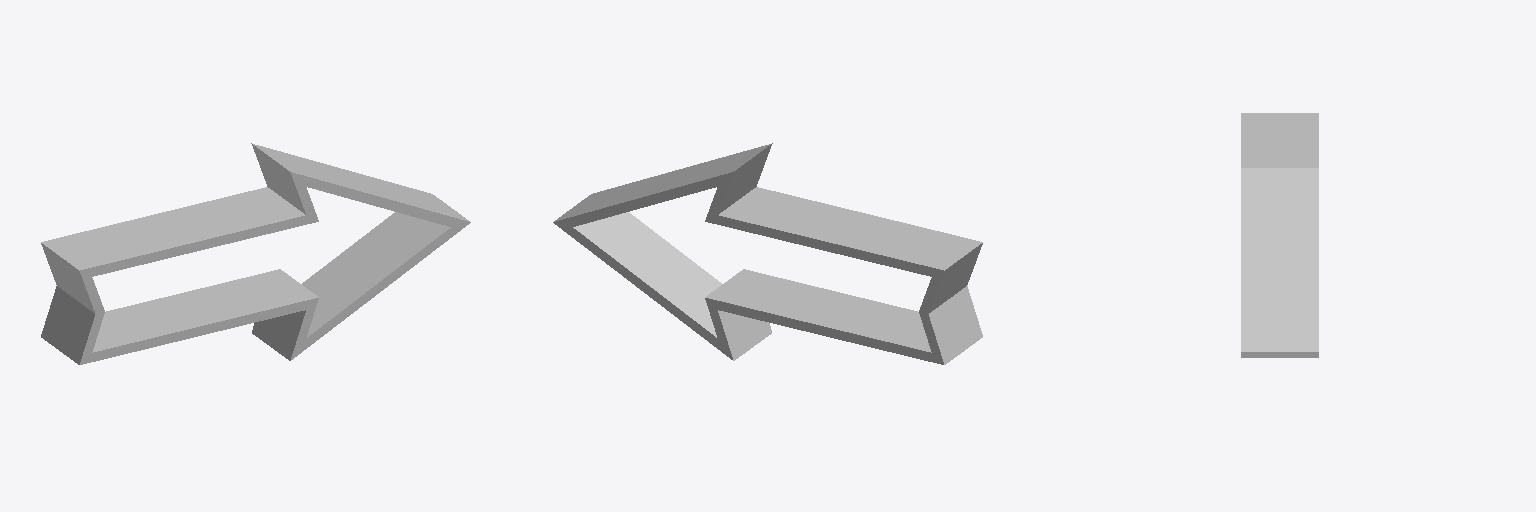
Rendered from Arrow_40.obj.
3 renders of one model, left to right at view 1: azimuth 30°, elevation 25°; view 2: azimuth 150°, elevation 25°; view 3: azimuth 270°, elevation 25°, orthographic.
Visible parts, largest first — view 1: Arrow_40; view 2: Arrow_40; view 3: Arrow_40.
Boxes of the visible parts, x1,y1,x2,y2 form: Arrow_40: [41, 143, 470, 364]; Arrow_40: [553, 143, 982, 364]; Arrow_40: [1241, 113, 1318, 357].
Size of the model in its own units: 4.33 by 2 by 0.7423.